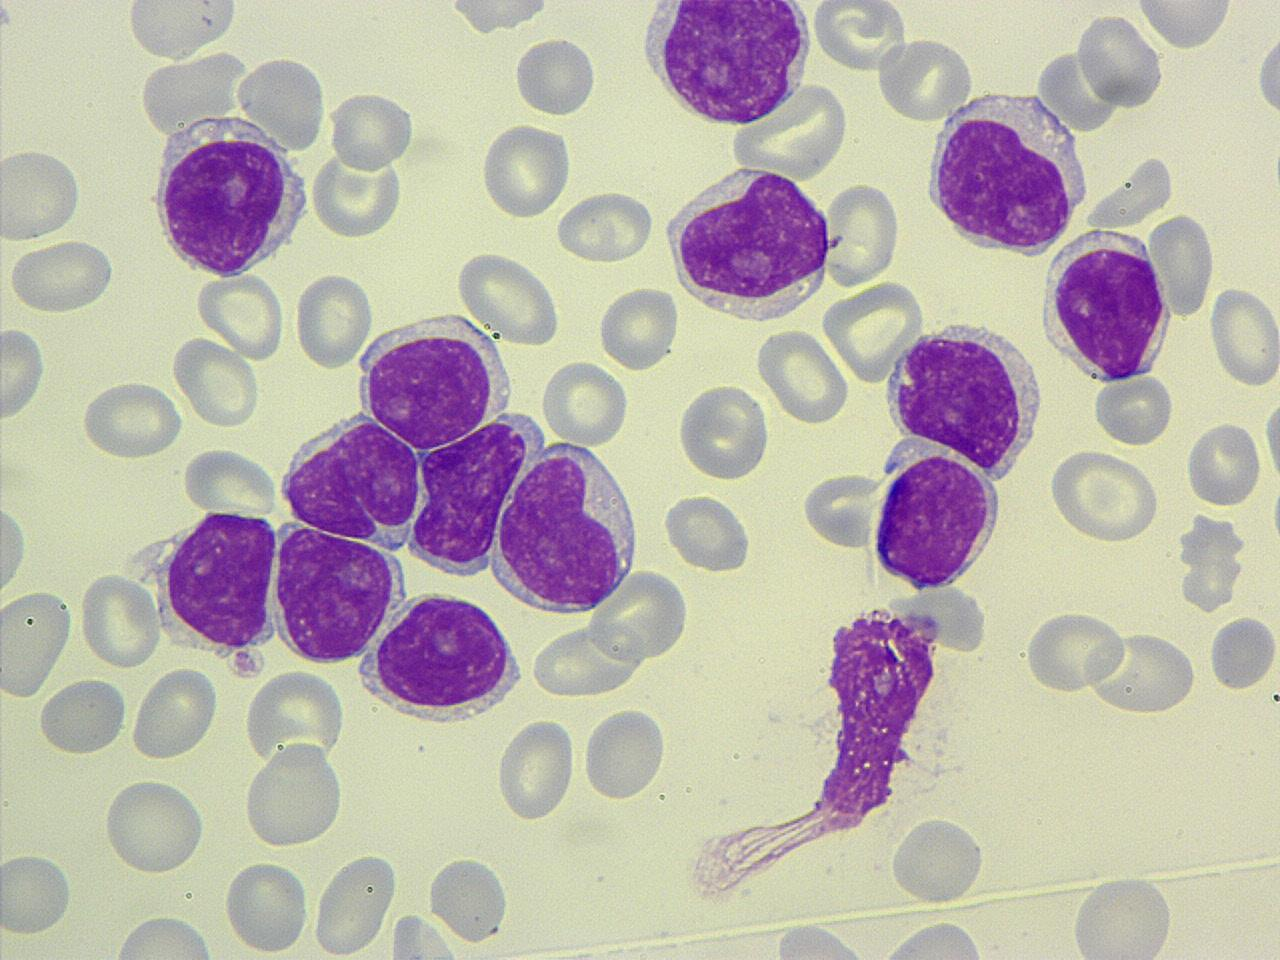RBC: (728, 80, 848, 181), (241, 740, 346, 850), (1047, 447, 1163, 545), (100, 774, 208, 878), (820, 278, 925, 384), (452, 248, 564, 345), (586, 564, 690, 666), (244, 666, 346, 768), (1089, 631, 1198, 722), (674, 380, 772, 482), (477, 119, 573, 221), (754, 325, 850, 426), (529, 618, 647, 700), (310, 848, 398, 956), (1068, 874, 1178, 960), (1022, 607, 1129, 695), (308, 144, 405, 240), (128, 662, 220, 762), (494, 714, 578, 824), (236, 52, 328, 152), (887, 813, 987, 905), (5, 237, 120, 317), (78, 377, 184, 462), (1074, 11, 1164, 112), (77, 568, 163, 672), (876, 33, 976, 123), (580, 704, 668, 805), (820, 179, 902, 288), (221, 856, 310, 954), (172, 334, 262, 430), (0, 584, 74, 700), (194, 269, 286, 361), (540, 356, 631, 449), (292, 269, 374, 372), (0, 144, 83, 244), (554, 187, 658, 265), (35, 674, 128, 758), (596, 281, 680, 374), (660, 490, 756, 572), (1206, 283, 1280, 389), (179, 443, 280, 519), (1147, 208, 1217, 318), (428, 852, 510, 945), (326, 89, 414, 172), (513, 32, 599, 118), (798, 466, 885, 551), (811, 0, 910, 73), (1185, 418, 1263, 509), (123, 1, 240, 61), (0, 847, 74, 940), (1092, 372, 1172, 448), (1205, 612, 1277, 694), (107, 910, 219, 958), (862, 918, 996, 958), (1134, 0, 1236, 52), (0, 324, 48, 422), (443, 0, 554, 37), (768, 921, 876, 959), (0, 495, 29, 603), (1251, 23, 1279, 123)
WBC: (202, 332, 658, 748), (268, 0, 814, 231), (800, 589, 962, 842), (922, 85, 1092, 259), (658, 160, 836, 327), (147, 111, 315, 279), (880, 316, 1050, 481), (485, 440, 644, 615), (355, 587, 530, 729), (633, 0, 818, 130), (352, 310, 515, 452), (141, 505, 283, 666), (1037, 226, 1177, 385), (866, 448, 1007, 593), (277, 406, 419, 546), (273, 524, 402, 666), (441, 0, 562, 35)
